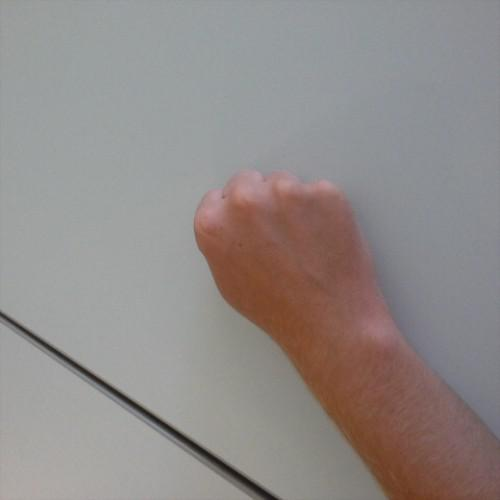rock: (189, 166, 368, 359)
